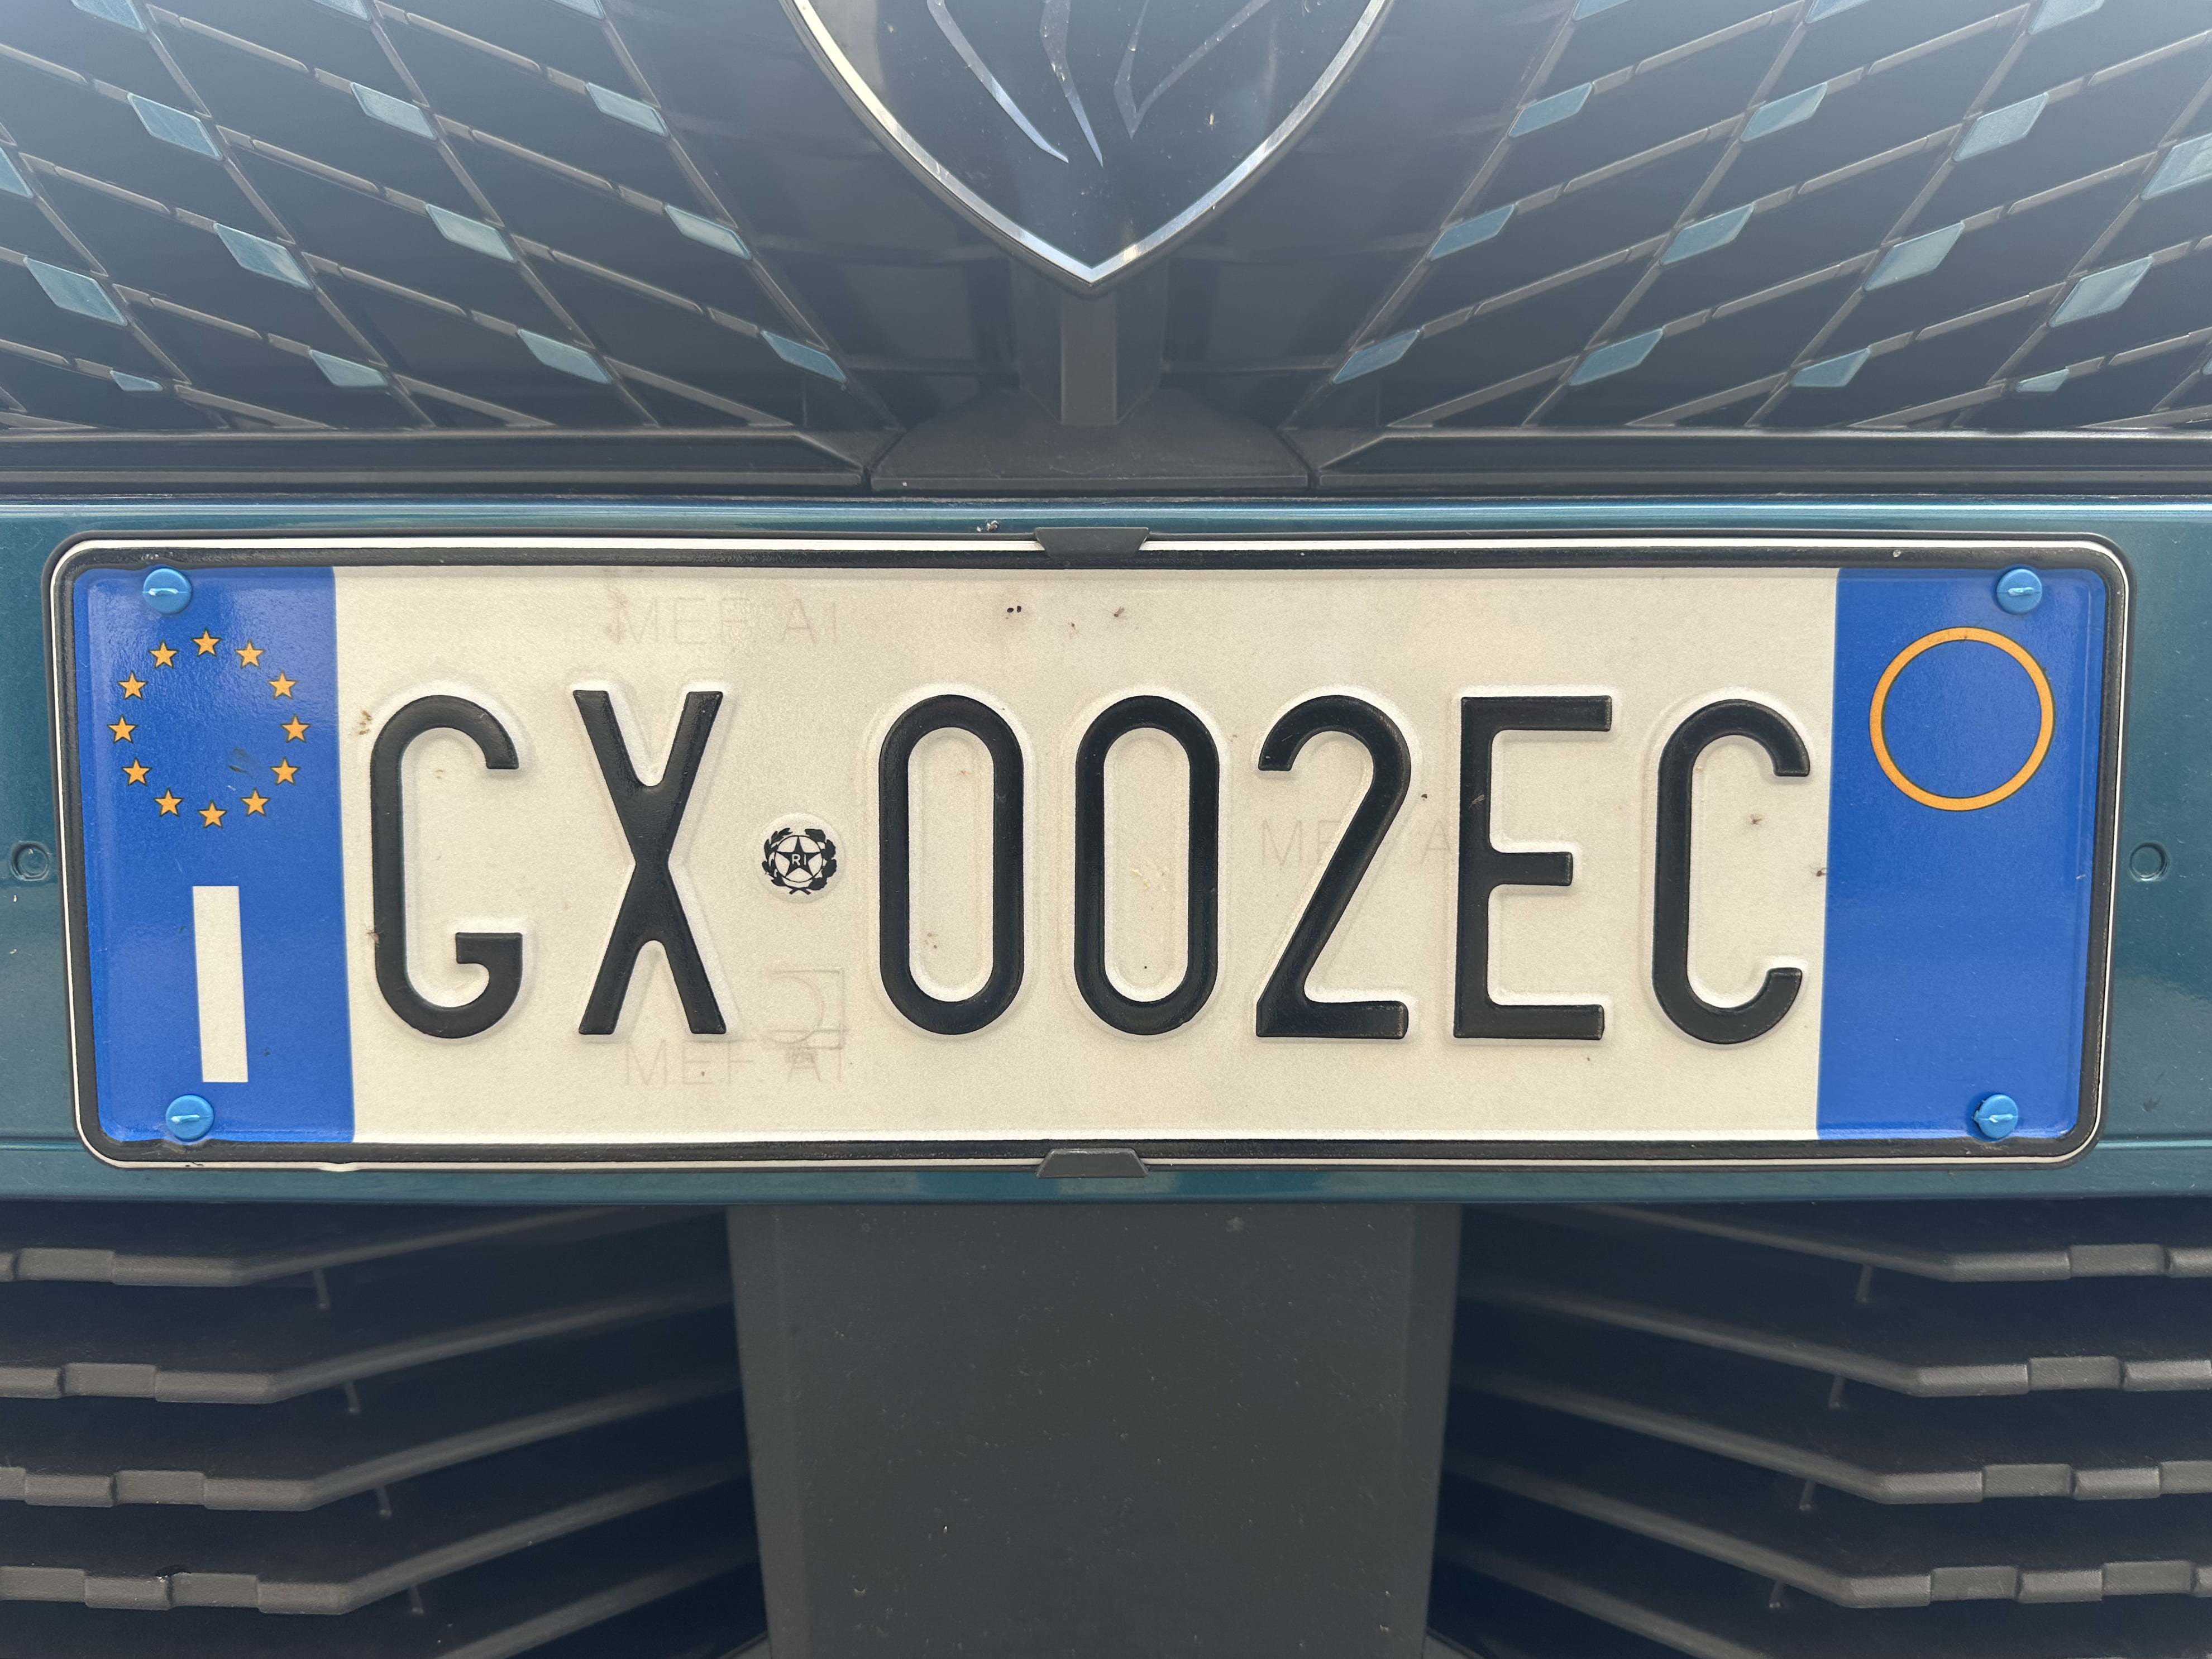license-plate: (47, 534, 2137, 1168)
